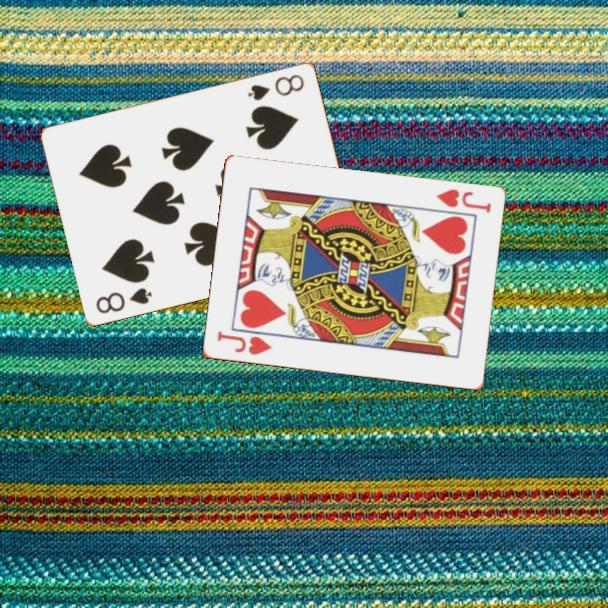h11: (432, 186, 494, 216), (213, 328, 274, 358)
s08: (244, 70, 307, 103), (92, 284, 155, 316)
